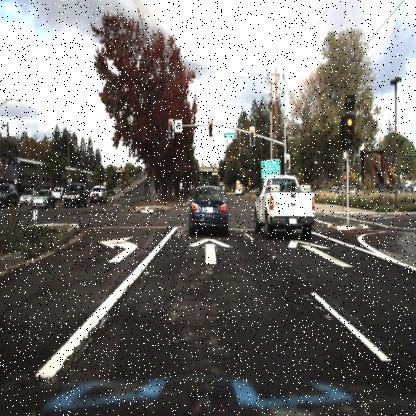car: (256, 172, 316, 236), (186, 186, 228, 238), (62, 180, 86, 209), (63, 184, 86, 208), (31, 186, 54, 209), (88, 184, 108, 206), (2, 184, 18, 206), (32, 190, 53, 206), (7, 184, 20, 208), (18, 188, 33, 206), (91, 186, 106, 204), (19, 189, 35, 205), (54, 184, 62, 205)
trafficLight-Red: (346, 114, 353, 146), (348, 114, 356, 142), (204, 120, 215, 138), (167, 120, 176, 140), (282, 155, 292, 173), (283, 152, 291, 174), (207, 118, 214, 140), (249, 125, 256, 144), (249, 126, 255, 145)
trafficLight-RedLeft: (168, 121, 176, 139)
